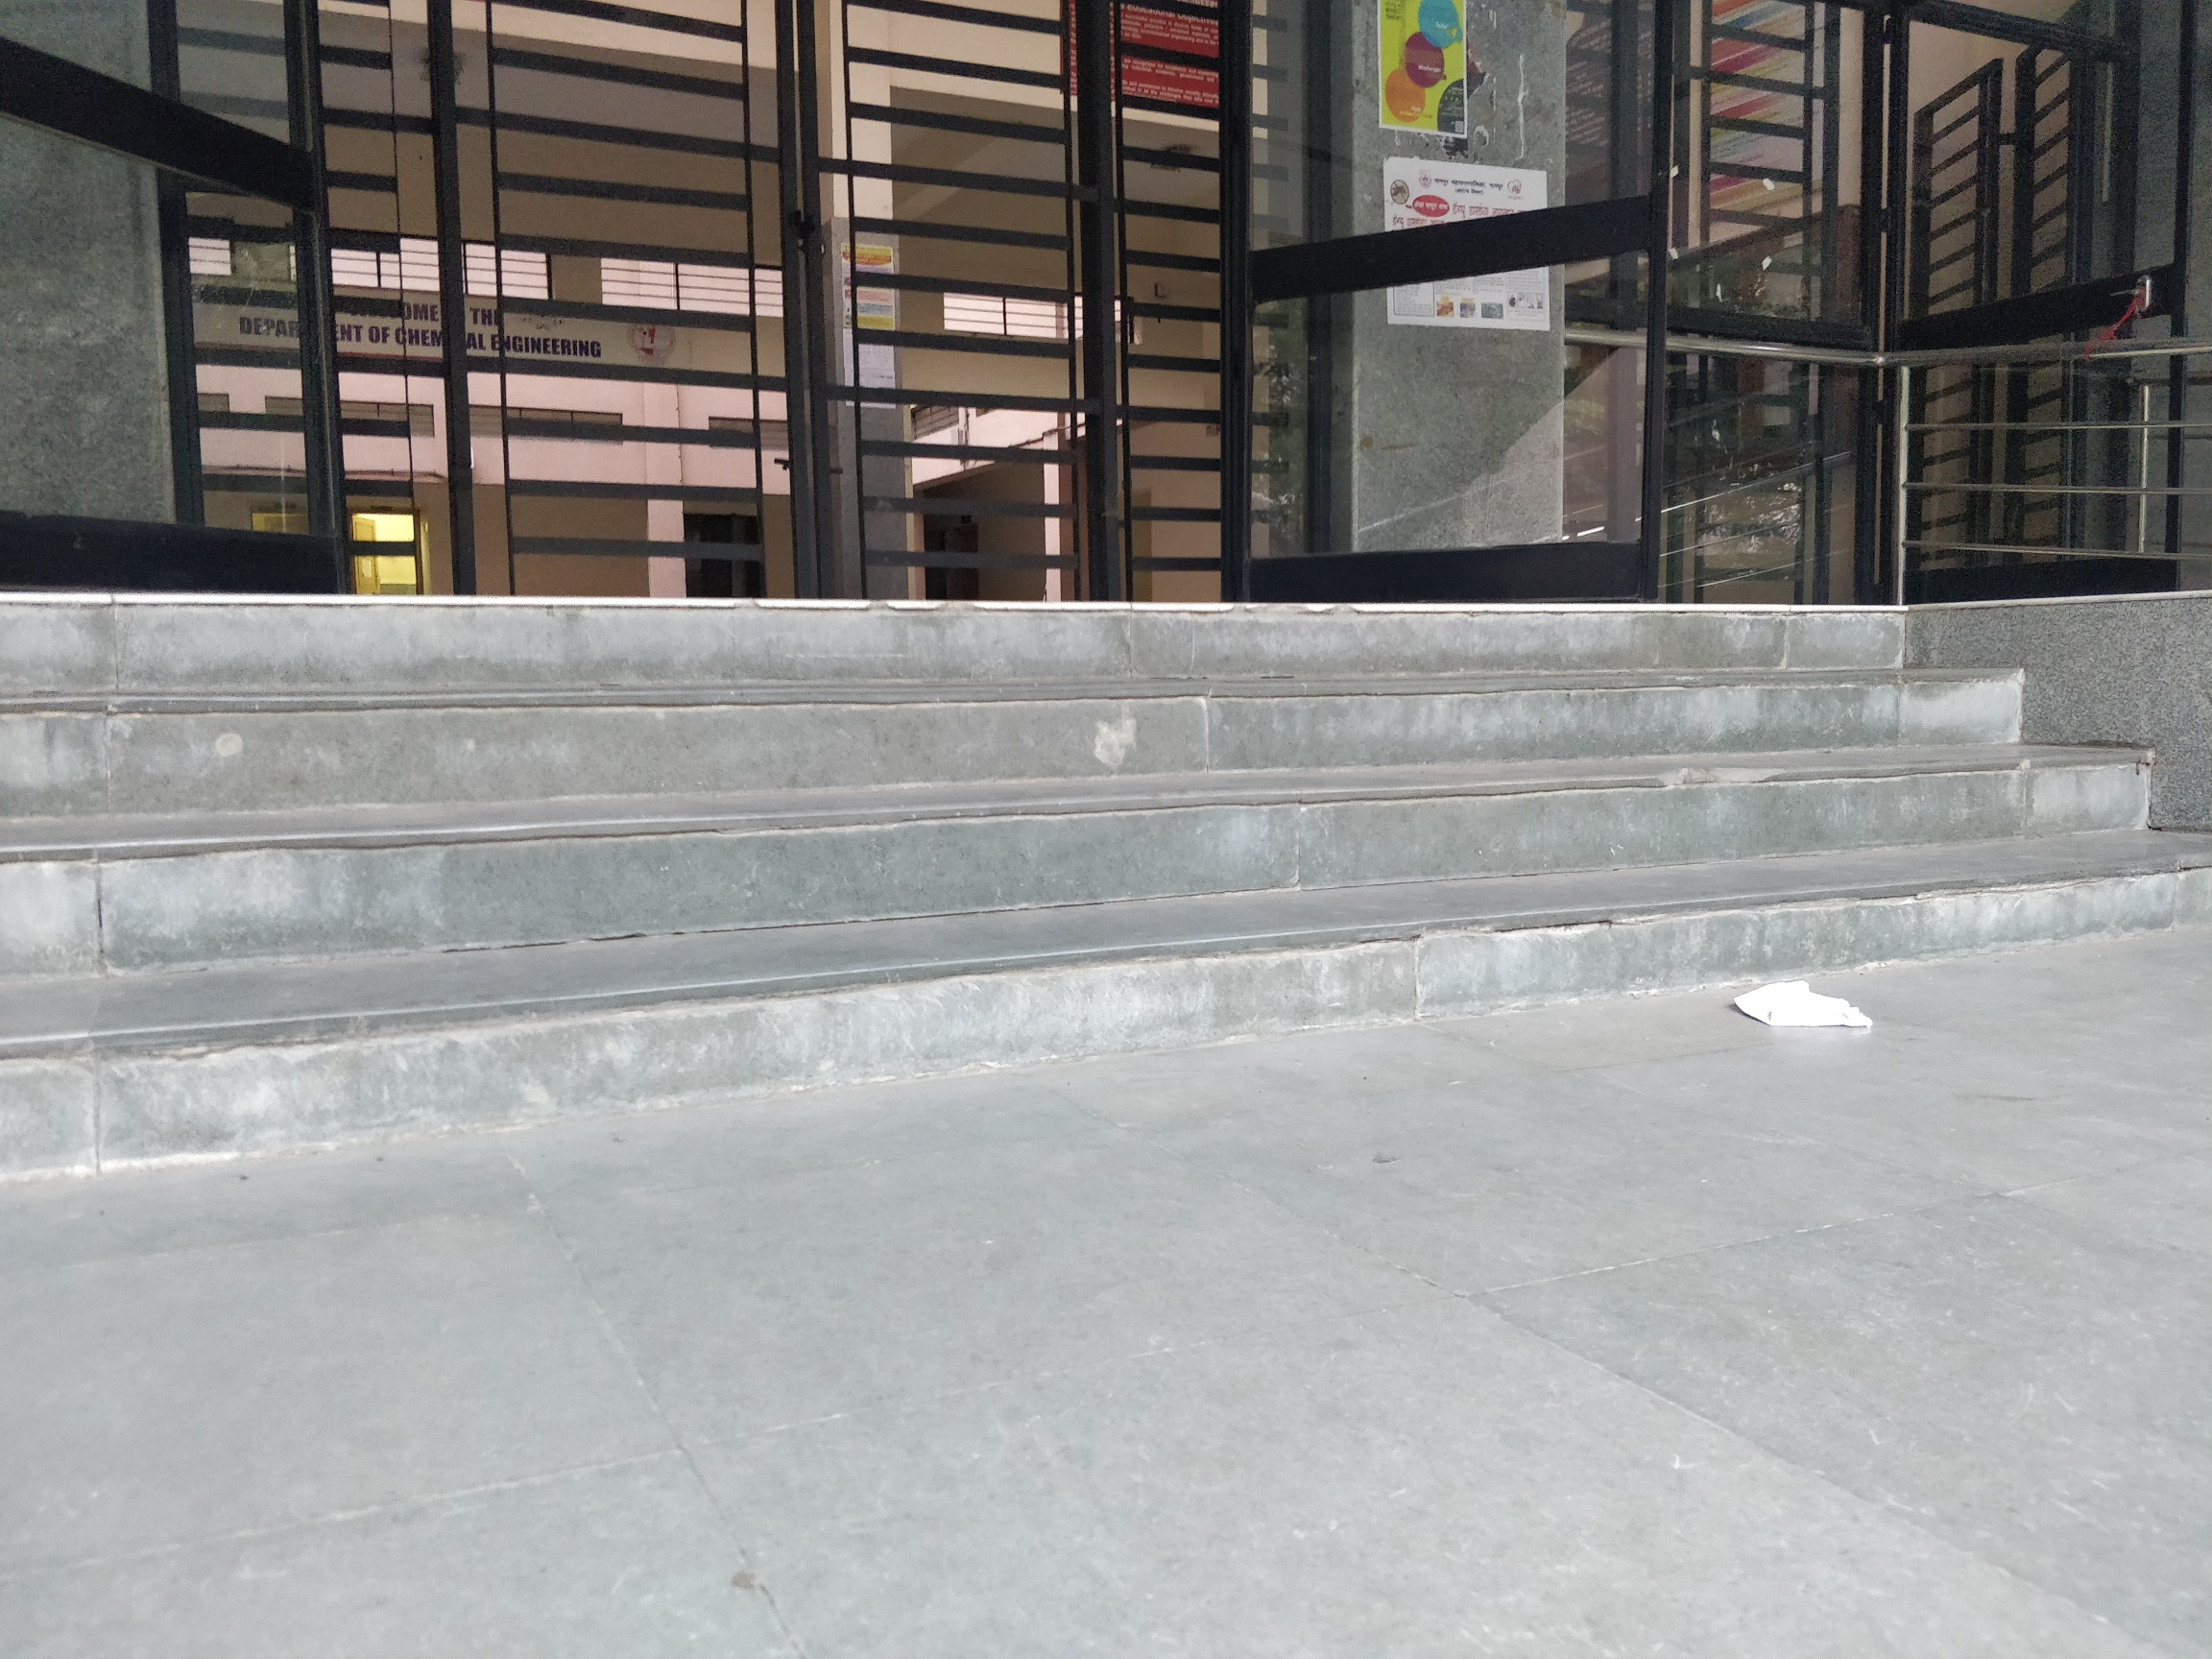stairs_up: (12, 572, 2209, 1004)
